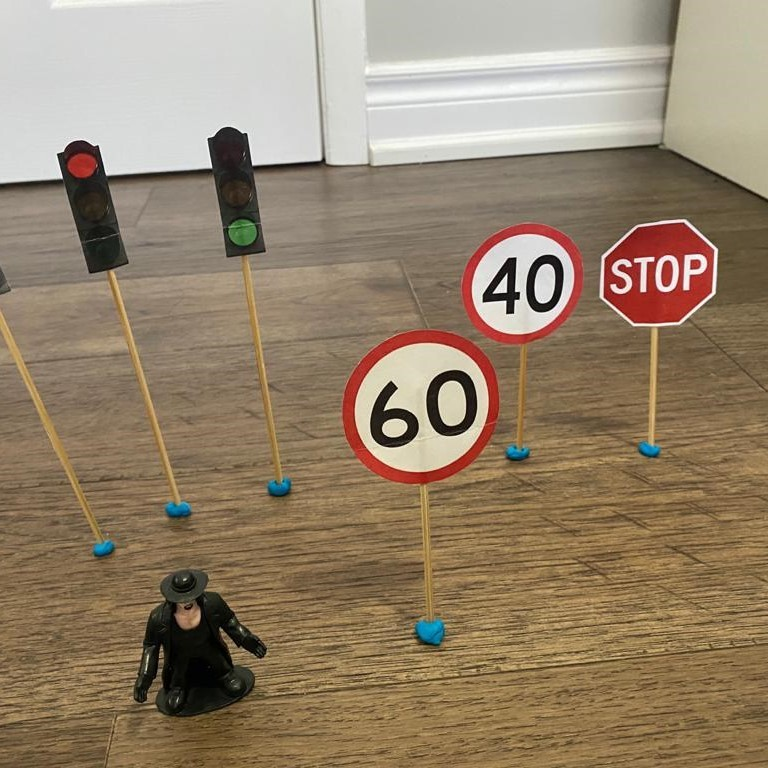Green Traffic Light: (200, 127, 273, 263)
Person: (124, 561, 273, 734)
Red Traffic Light: (51, 138, 135, 274)
Speed Limit 40: (458, 216, 584, 344)
Speed Limit 60: (339, 329, 502, 493)
Stop Sign: (596, 217, 720, 331)
